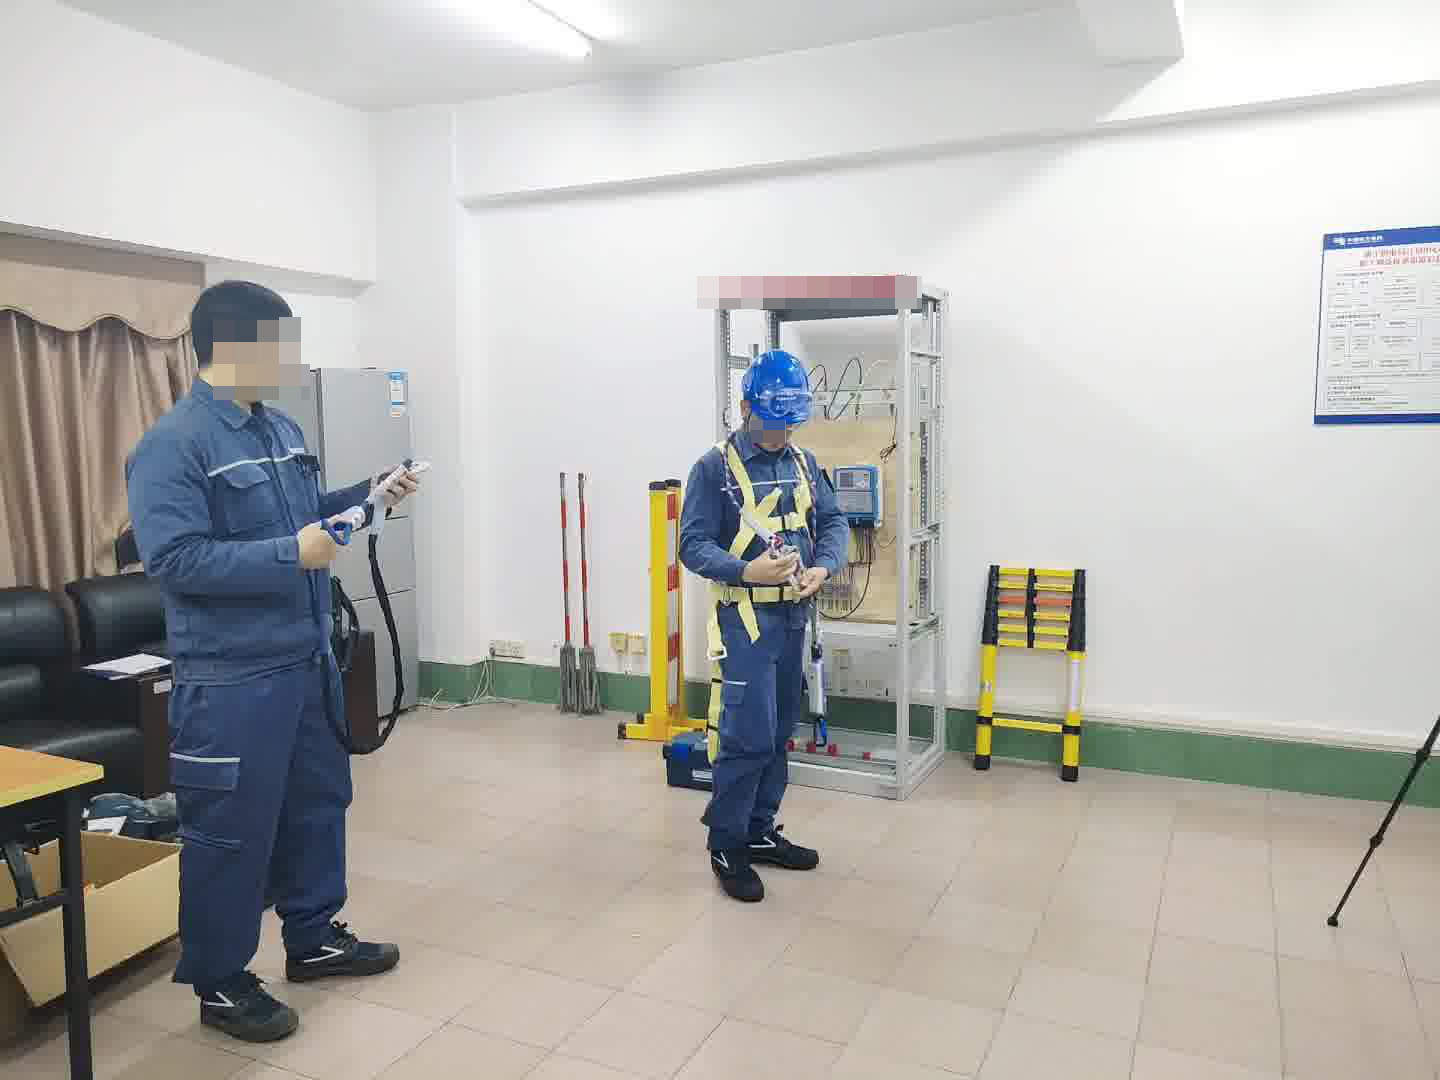downsuit: (166, 690, 355, 981), (707, 606, 811, 846)
halt: (188, 280, 299, 404), (741, 349, 816, 443)
hand: (290, 515, 352, 572), (742, 547, 798, 582), (373, 460, 415, 498), (793, 558, 827, 595)
inear: (735, 396, 759, 424)
noear: (207, 328, 250, 373)
person: (151, 277, 451, 1038), (678, 349, 854, 888)
safebelt: (700, 433, 827, 762)
upsuit: (123, 385, 356, 669), (682, 433, 851, 588)
